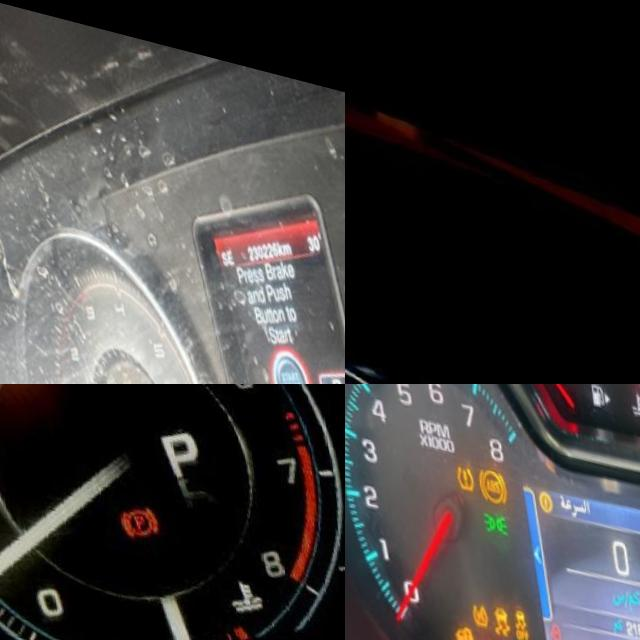Engine cooling system: (215, 558, 268, 619)
